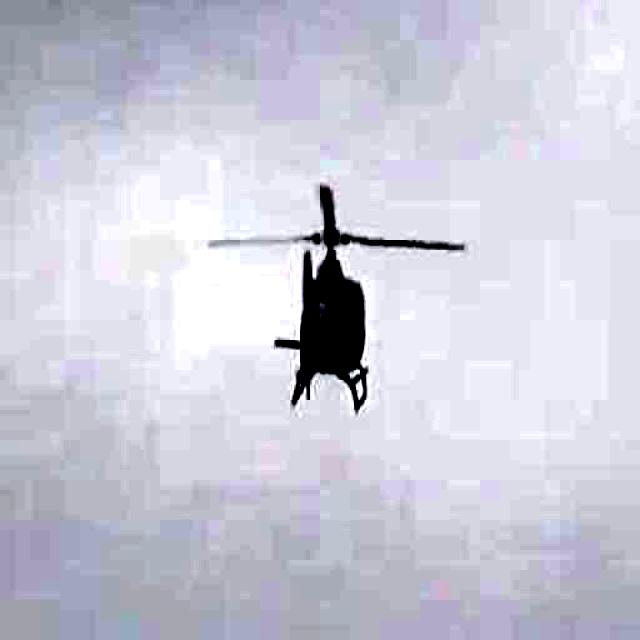drone: (220, 168, 440, 430)
